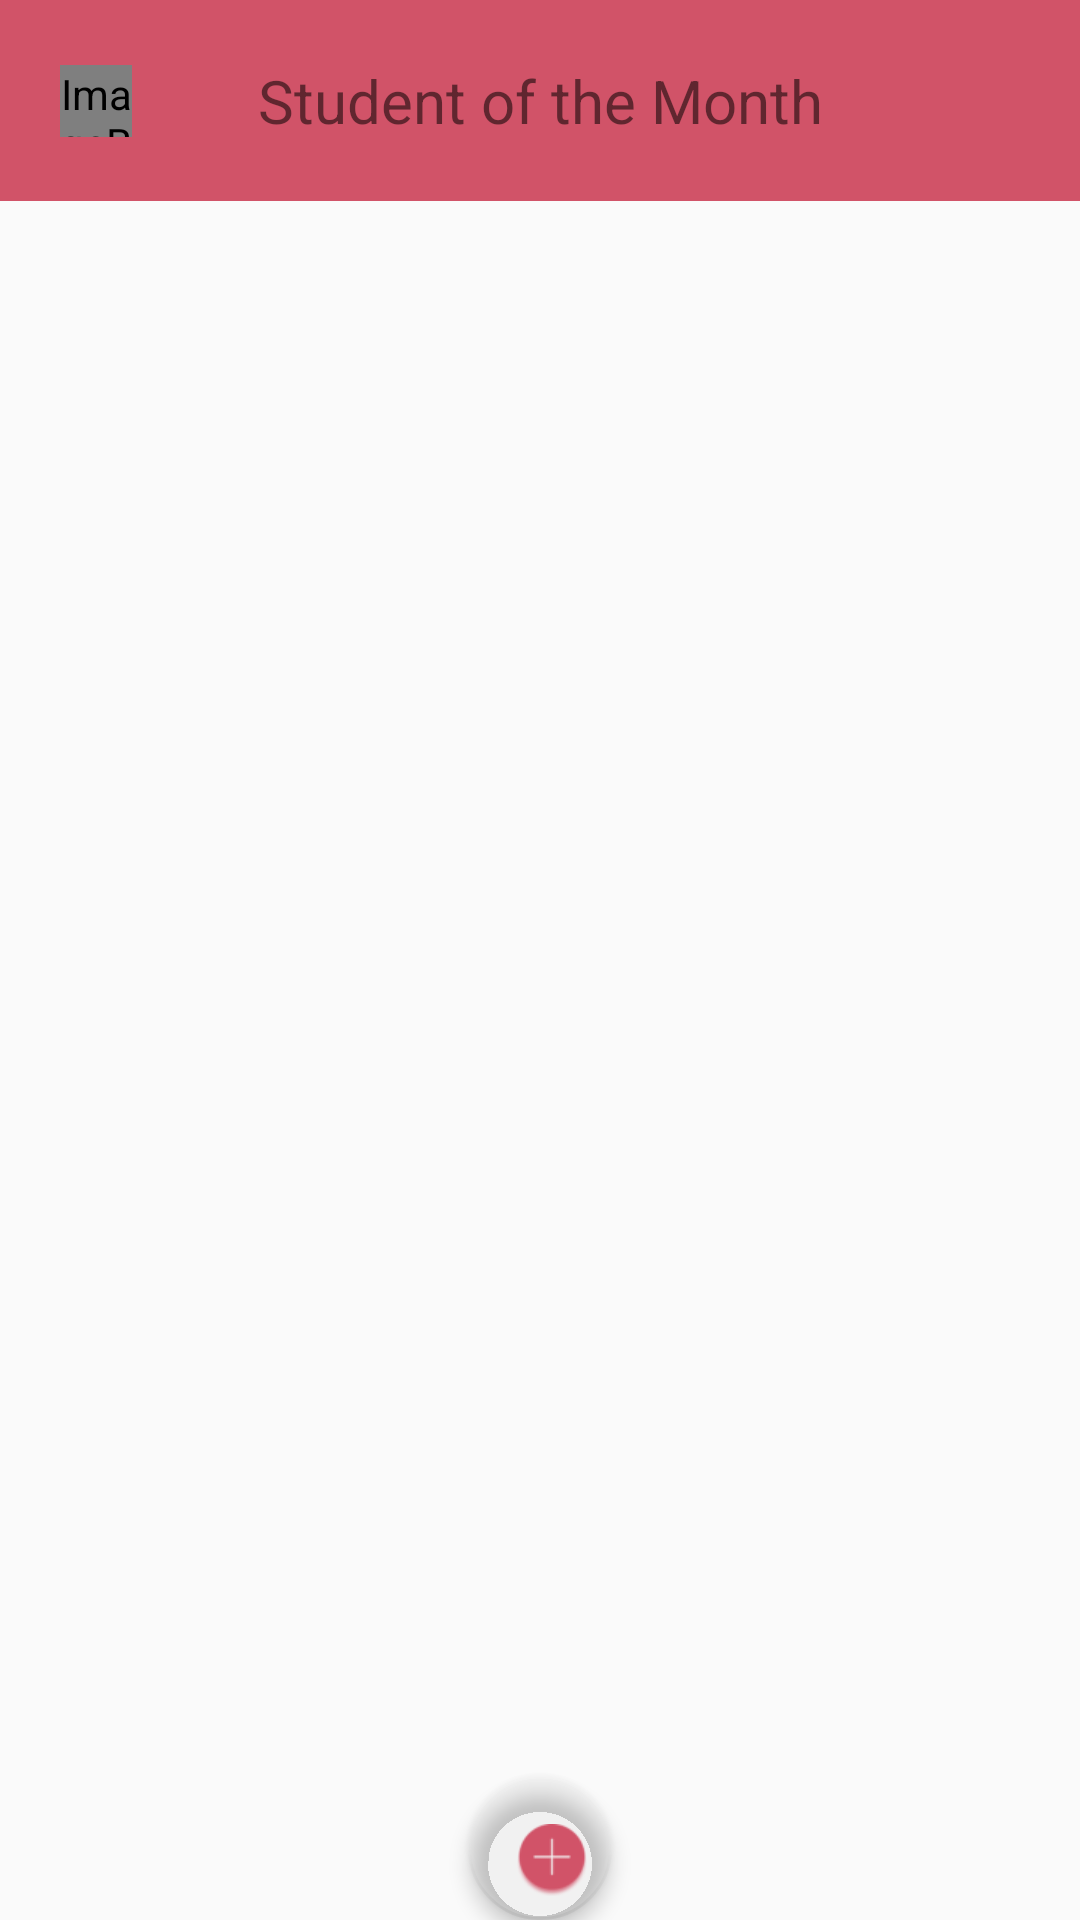

Point at icon controls on the screen. Image size 1080px×1920px, points as [x,y].
float add post: [540,1855]
